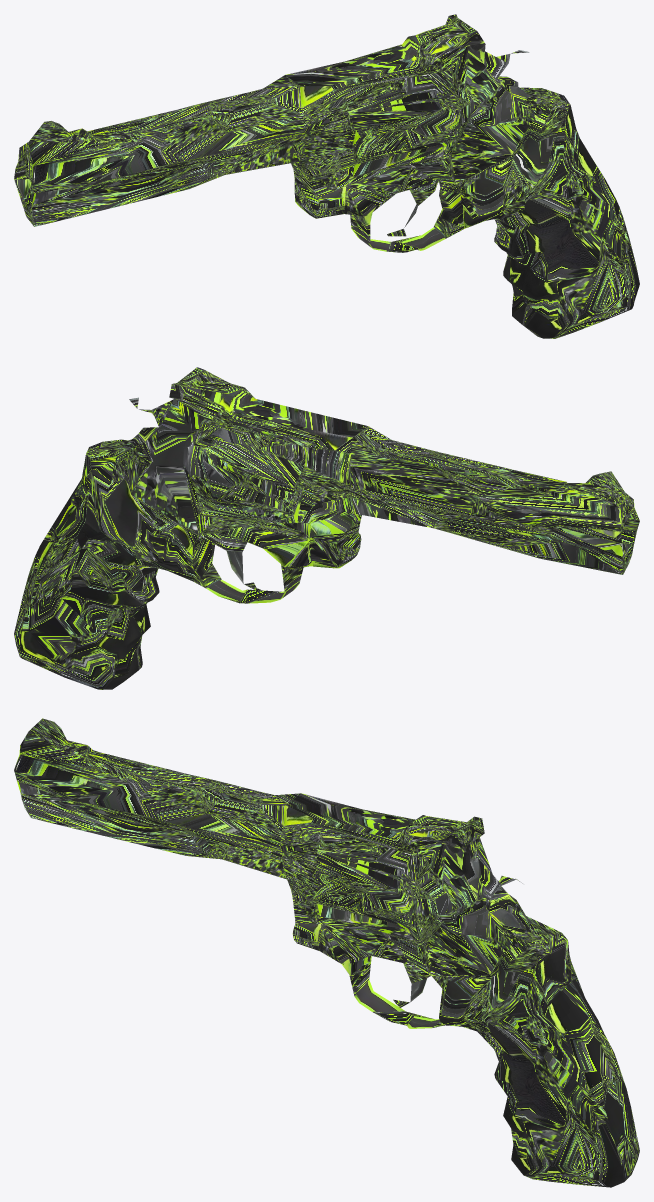
The model's file is gun_revolver_lo.glb.
3 renders of one model, top to bottom at view 1: azimuth 30°, elevation 25°; view 2: azimuth 150°, elevation 25°; view 3: azimuth 330°, elevation 25°, orthographic.
Parts seen in each view (by area): view 1: Mesh_0; view 2: Mesh_0; view 3: Mesh_0.
Boxes of the visible parts, x1,y1,x2,y2 form: Mesh_0: (14, 14, 639, 338); Mesh_0: (14, 367, 639, 689); Mesh_0: (14, 718, 639, 1187).
Bounding box in the file's own units: 1.9 × 0.9868 × 0.2667.
Materials: 1 (1 with a texture image).
